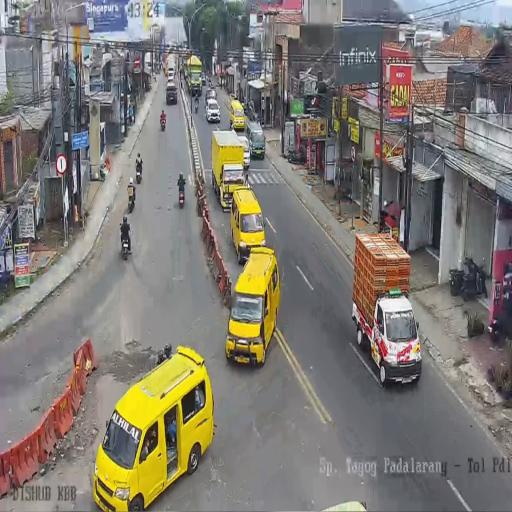3: (352, 232, 420, 386), (212, 130, 246, 210), (186, 54, 203, 96)
car: (92, 346, 212, 508), (226, 248, 281, 364), (229, 186, 265, 262), (245, 120, 266, 160), (229, 98, 245, 130), (205, 98, 221, 122), (166, 84, 178, 105), (166, 73, 174, 88), (201, 72, 206, 86)
truck: (120, 223, 132, 260), (287, 147, 306, 165), (177, 179, 185, 207), (127, 189, 135, 214), (136, 162, 142, 184), (128, 108, 134, 126), (160, 114, 166, 130), (195, 97, 199, 113)
